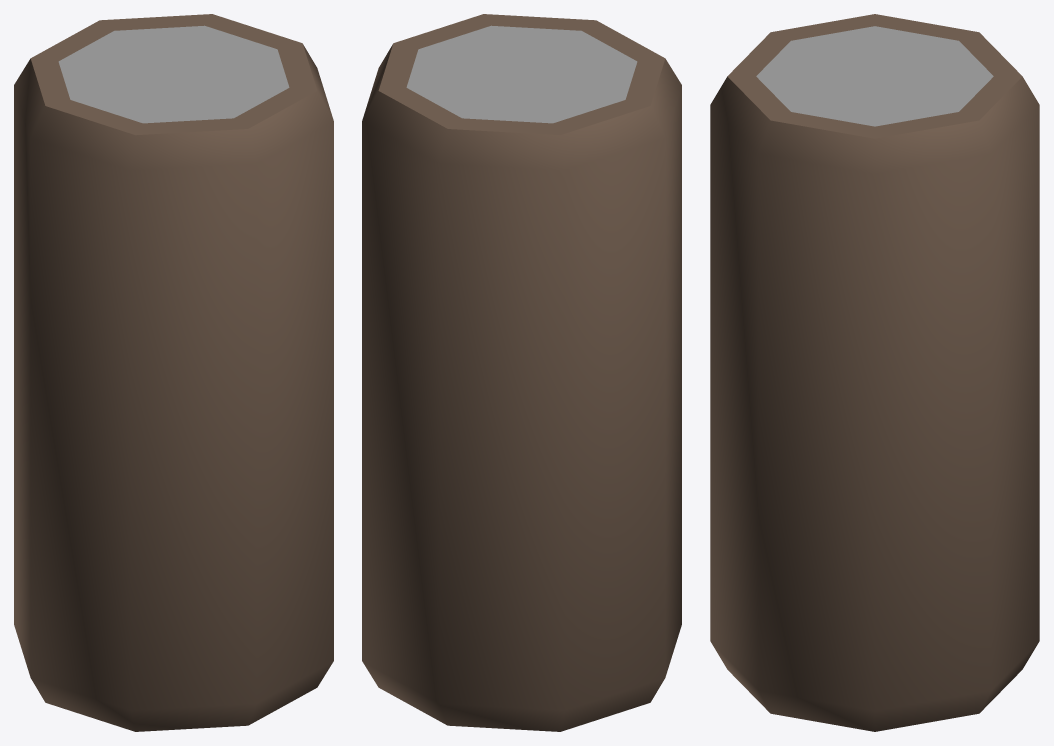
File: SM_Props_Garbage_07.fbx
The picture shows the model from 3 angles, left to right: view 1: azimuth 30°, elevation 25°; view 2: azimuth 150°, elevation 25°; view 3: azimuth 270°, elevation 25°; orthographic projection.
Parts seen in each view (by area): view 1: SM_Props_Garbage_07; view 2: SM_Props_Garbage_07; view 3: SM_Props_Garbage_07.
Boxes of the visible parts, x1,y1,x2,y2 form: SM_Props_Garbage_07: (14,14,333,731); SM_Props_Garbage_07: (362,14,681,731); SM_Props_Garbage_07: (710,14,1039,731).
Bounding box in the file's own units: 0.0809 × 0.1609 × 0.0809.
